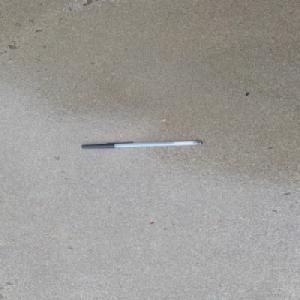Pen: (80, 139, 203, 149)
